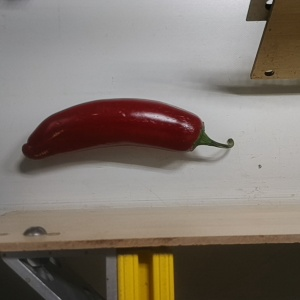Cut Point: (182, 111, 211, 157)
